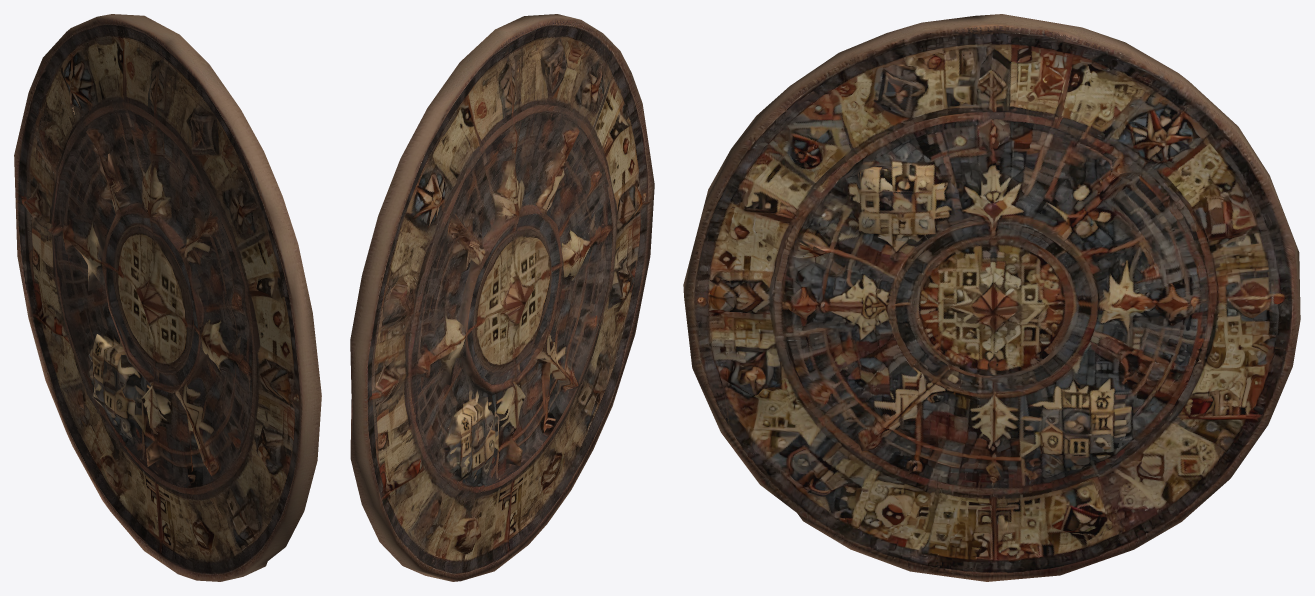
The model's file is rug.glb.
3 views of the same model, side by side, from view 1: azimuth 30°, elevation 25°; view 2: azimuth 150°, elevation 25°; view 3: azimuth 270°, elevation 25° (orthographic). The views are drawn at different scales.
Visible parts, largest first — view 1: tripo_node_ffe3f2e3-13b4-4688-a899-6662c178e237; view 2: tripo_node_ffe3f2e3-13b4-4688-a899-6662c178e237; view 3: tripo_node_ffe3f2e3-13b4-4688-a899-6662c178e237.
Boxes of the visible parts, x1,y1,x2,y2 form: tripo_node_ffe3f2e3-13b4-4688-a899-6662c178e237: (14,14,321,581); tripo_node_ffe3f2e3-13b4-4688-a899-6662c178e237: (350,14,654,581); tripo_node_ffe3f2e3-13b4-4688-a899-6662c178e237: (683,14,1300,581).
Bounding box in the file's own units: 0.1135 × 0.9988 × 1.
Materials: 1 (1 with a texture image).
